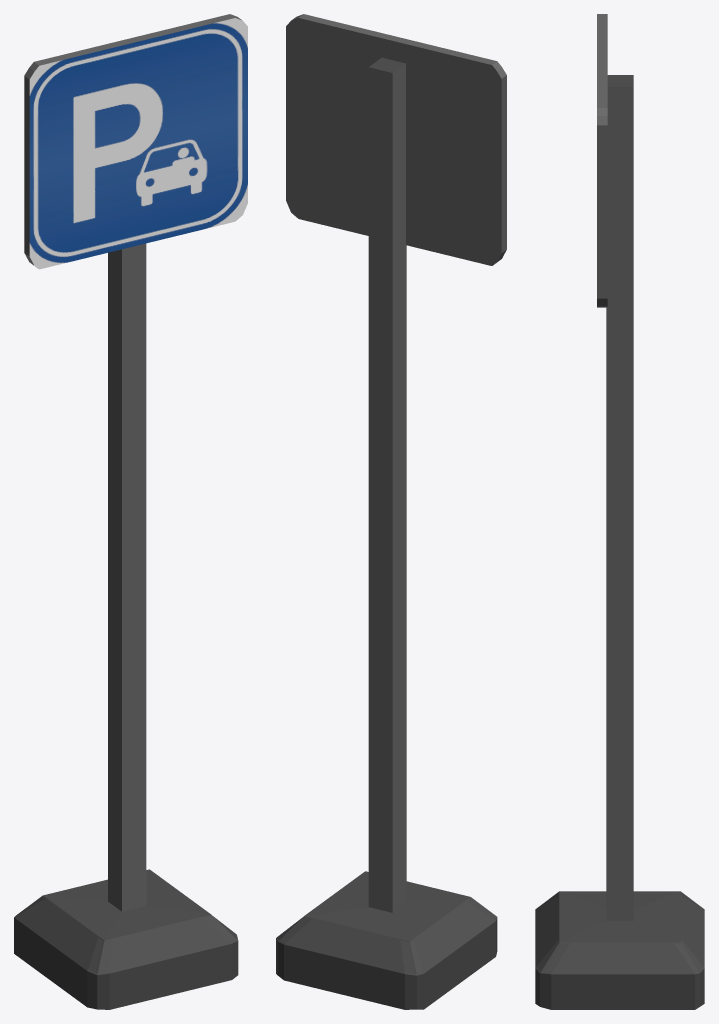
The model's file is Parking_Sign (1).fbx.
3 renders of one model, left to right at view 1: azimuth 30°, elevation 25°; view 2: azimuth 150°, elevation 25°; view 3: azimuth 270°, elevation 25°, orthographic.
Parts seen in each view (by area): view 1: Cube, Cube.001; view 2: Cube, Cube.001; view 3: Cube, Cube.001.
Part boxes in pixels (box(x1,y1,x2,y2)): Cube: box(14, 243, 238, 1009); Cube.001: box(24, 14, 247, 269); Cube: box(276, 57, 497, 1009); Cube.001: box(286, 14, 506, 265); Cube: box(535, 75, 704, 1009); Cube.001: box(597, 14, 607, 307).
Bounding box in the file's own units: 2.92 × 11.89 × 2.
3 materials, 1 textured.
